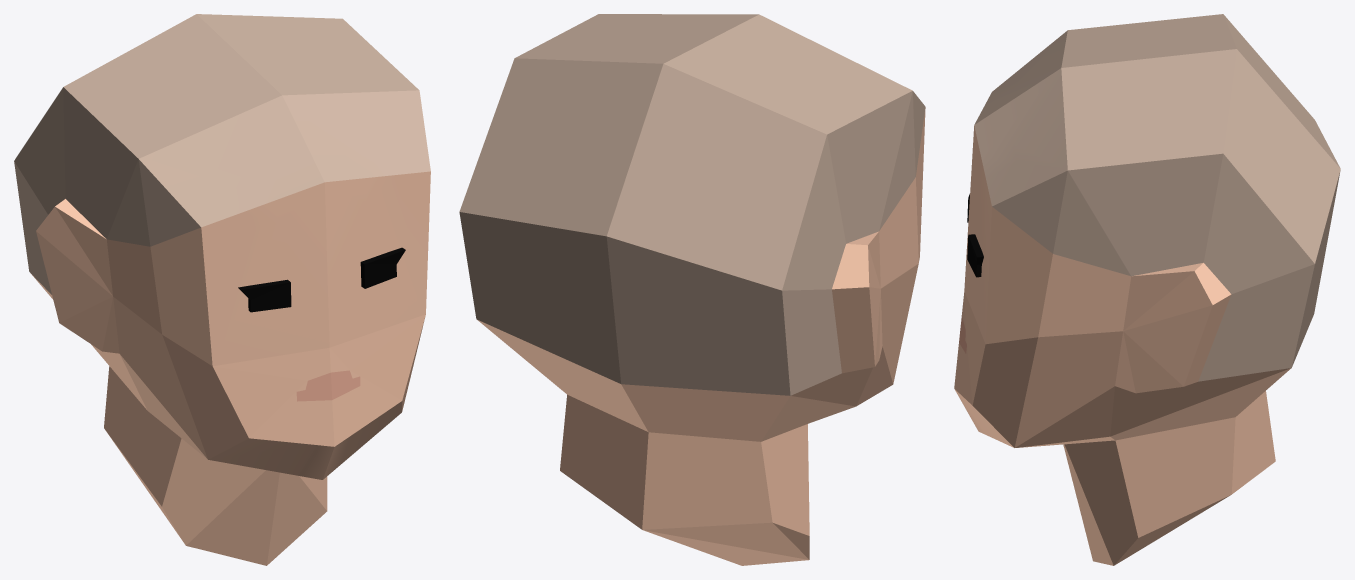
File: Chr_Head_Female_10_Static.fbx
3 renders of one model, left to right at view 1: azimuth 30°, elevation 25°; view 2: azimuth 150°, elevation 25°; view 3: azimuth 270°, elevation 25°, orthographic. The views are drawn at different scales.
Parts seen in each view (by area): view 1: Chr_Head_Female_10_Static; view 2: Chr_Head_Female_10_Static; view 3: Chr_Head_Female_10_Static.
Boxes of the visible parts, x1,y1,x2,y2 form: Chr_Head_Female_10_Static: (14,14,430,565); Chr_Head_Female_10_Static: (459,14,925,565); Chr_Head_Female_10_Static: (954,14,1340,565).
Size of the model in its own units: 0.2661 by 0.3693 by 0.2526.
